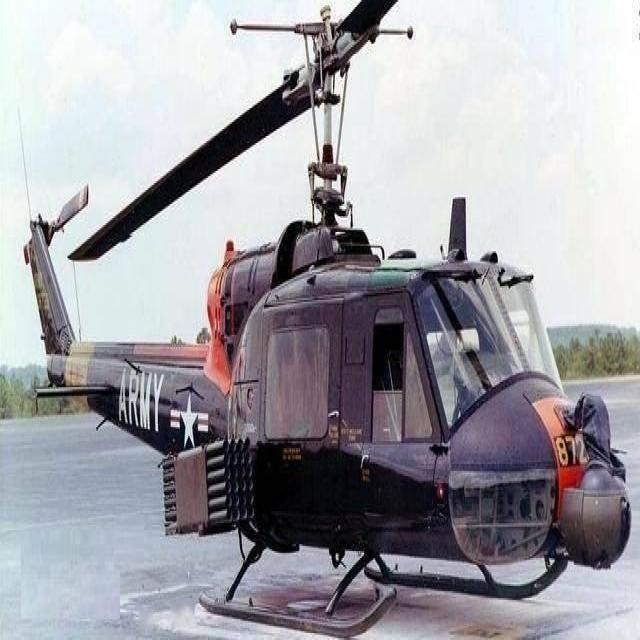MIL_HELO: (22, 0, 636, 640)
